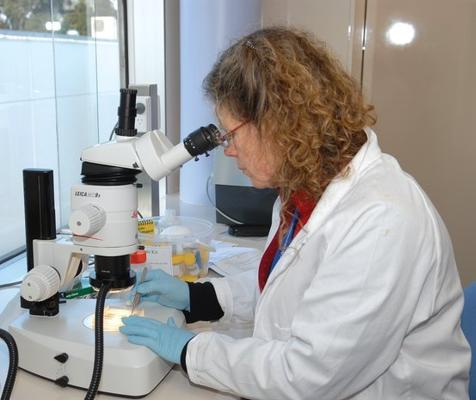person: (120, 27, 473, 400)
